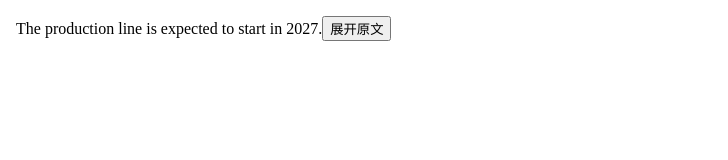
Test: QuoteSlot › 展开后渲染 source_field 指向的原文字节
Click the button with test id "quote-expand" at x=357, y=28, box [322,16,392,41]
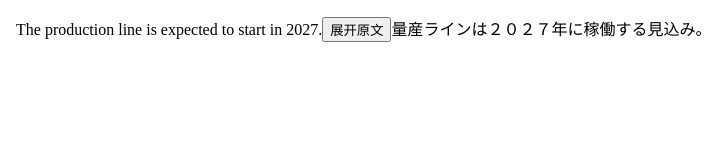
Now the text with test id "quote-original" reads "量産ラインは２０２７年に稼働する見込み。", box [392,21,712,38]
